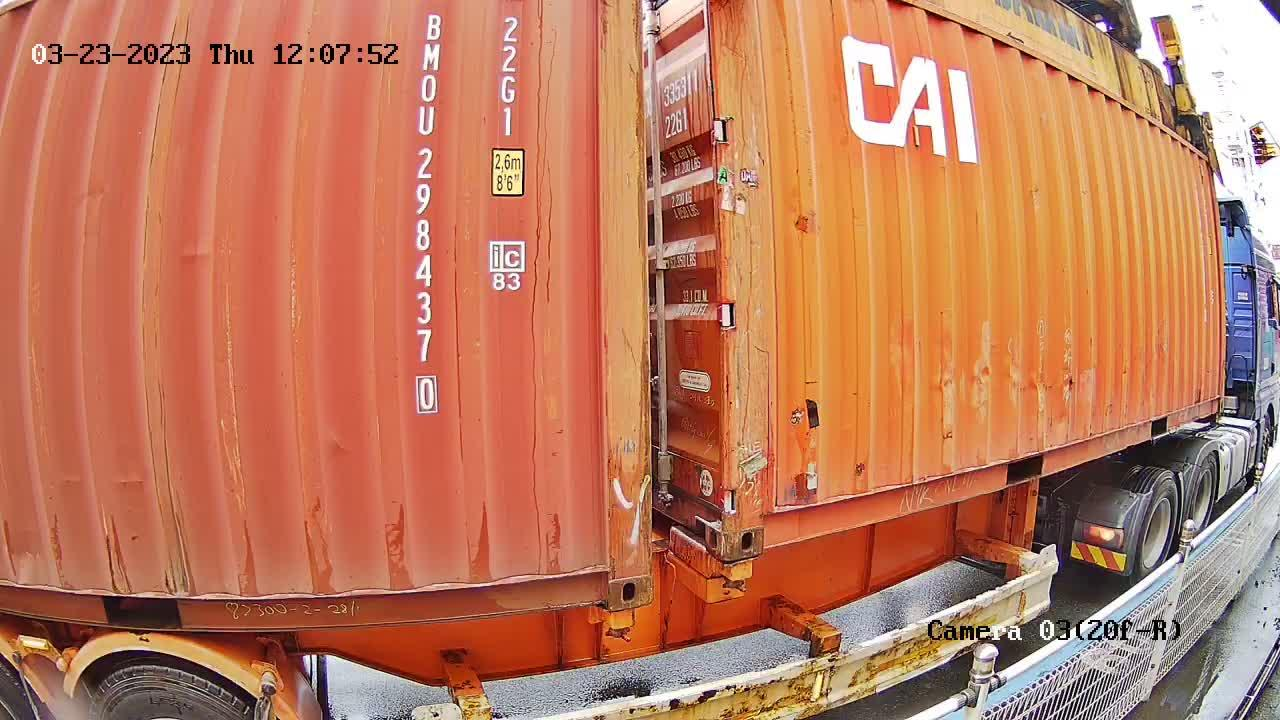Cone: (712, 558, 753, 597), (598, 607, 639, 642)
Hole_L: (726, 472, 794, 561)
Hole_R: (573, 527, 654, 606), (683, 468, 727, 562)
Tire: (1135, 472, 1182, 580), (1188, 457, 1218, 543)
